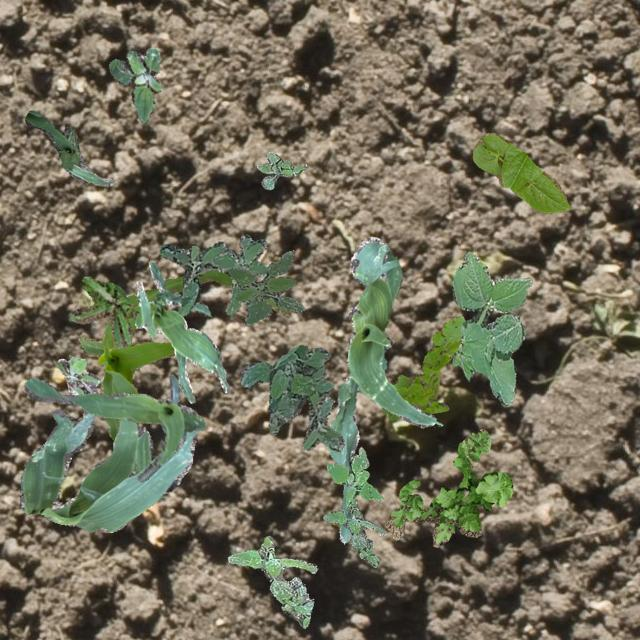crop: (78, 267, 290, 438), (326, 235, 442, 542), (20, 381, 198, 532), (23, 372, 204, 480), (134, 260, 228, 402), (472, 132, 568, 212), (23, 110, 112, 186)
weed: (384, 428, 512, 546), (452, 250, 532, 404), (240, 344, 344, 449), (158, 232, 266, 316), (382, 316, 464, 420), (226, 534, 316, 626), (226, 250, 304, 324), (70, 276, 140, 348), (322, 498, 386, 566), (108, 46, 162, 121), (324, 446, 382, 506), (256, 152, 306, 188), (53, 356, 97, 394)
